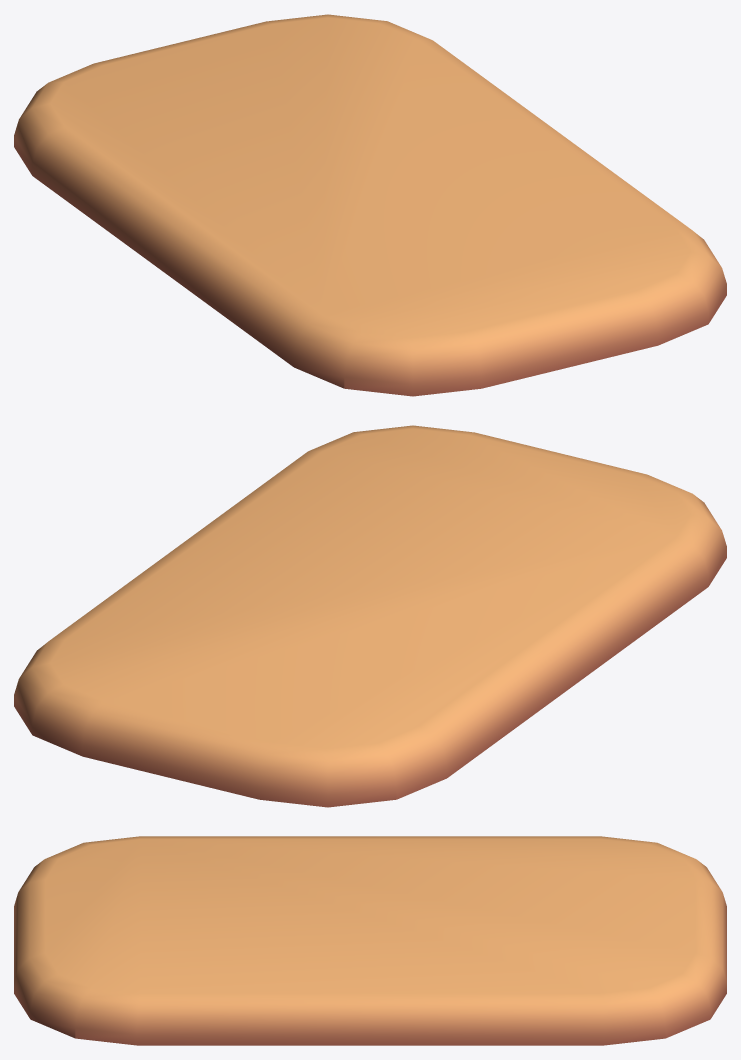
Rendered from Mats.fbx.
3 views of the same model, one above another, from view 1: azimuth 30°, elevation 25°; view 2: azimuth 150°, elevation 25°; view 3: azimuth 270°, elevation 25° (orthographic). The views are drawn at different scales.
Visible parts, largest first — view 1: Mats; view 2: Mats; view 3: Mats.
Part boxes in pixels (left/top/right/bottom): Mats: left=14, top=14, right=726, bottom=396; Mats: left=14, top=425, right=726, bottom=807; Mats: left=14, top=836, right=726, bottom=1045.
Size of the model in its own units: 48 by 4.79 by 80.
